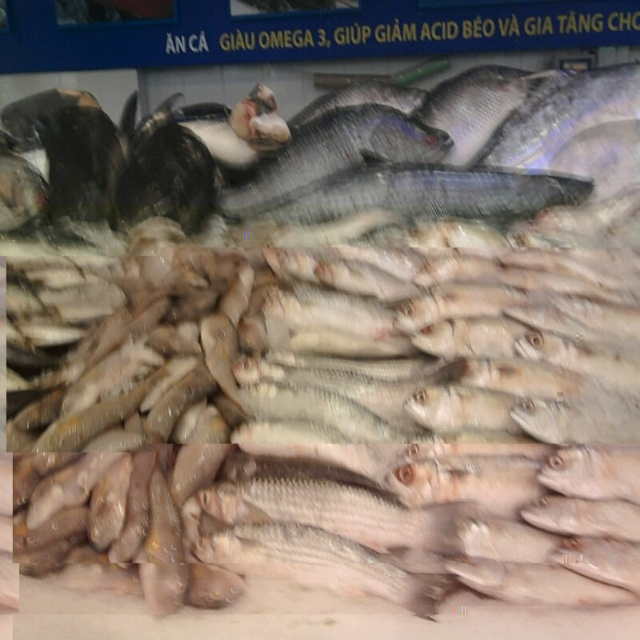Fish: (0, 57, 640, 623)
